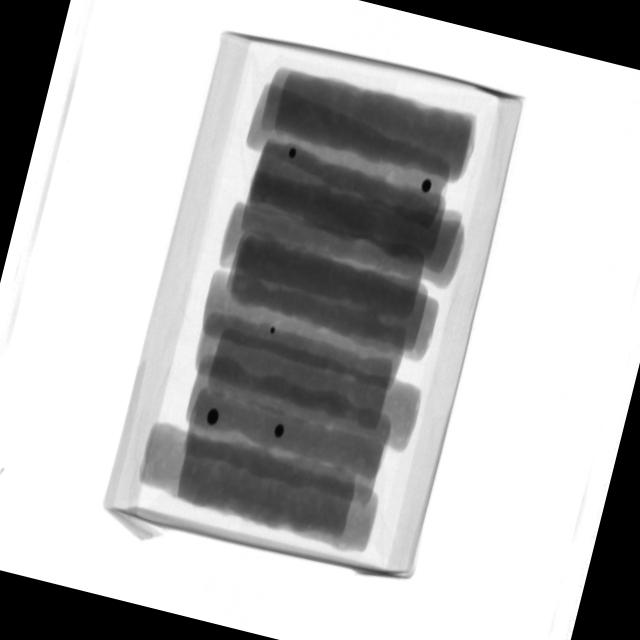ym: (207, 409, 223, 430), (421, 179, 434, 195), (275, 423, 287, 438), (288, 149, 298, 160), (270, 328, 278, 336)
